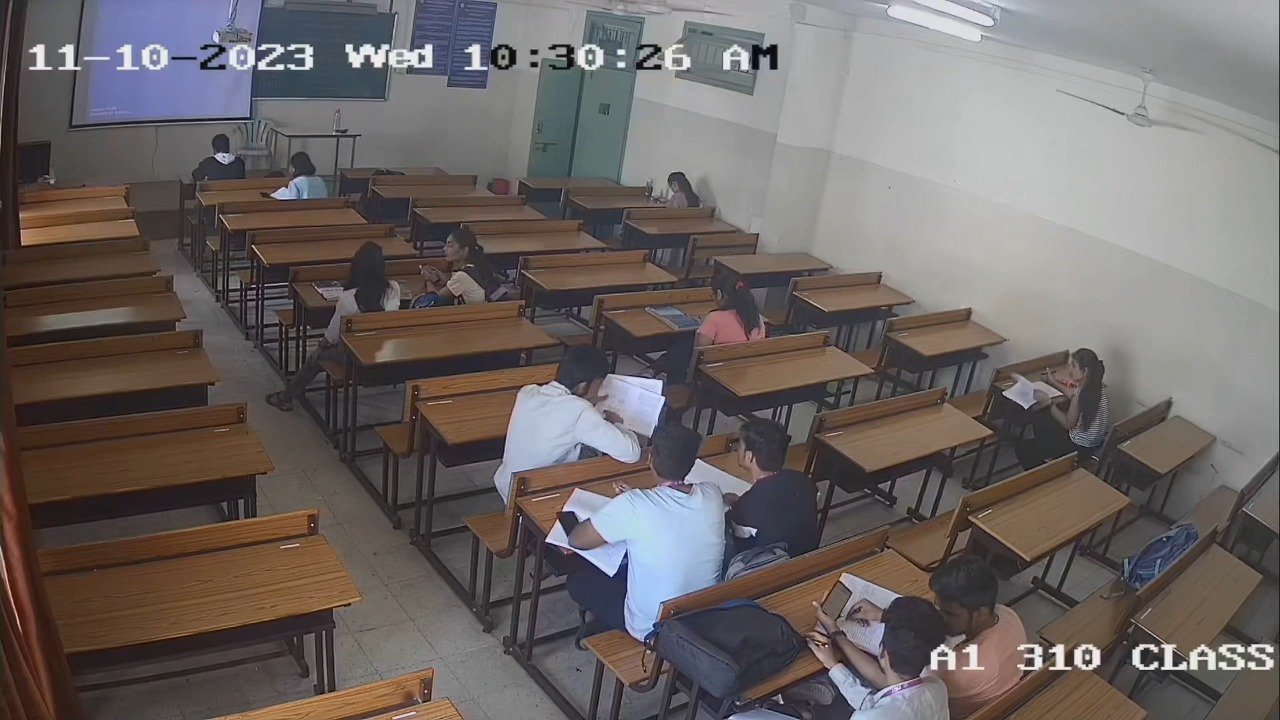cell-phones: (813, 578, 857, 620), (550, 505, 588, 538), (649, 194, 669, 205), (257, 190, 271, 199)
person: (567, 421, 727, 607), (802, 595, 951, 720), (286, 152, 327, 198), (667, 170, 702, 207)
